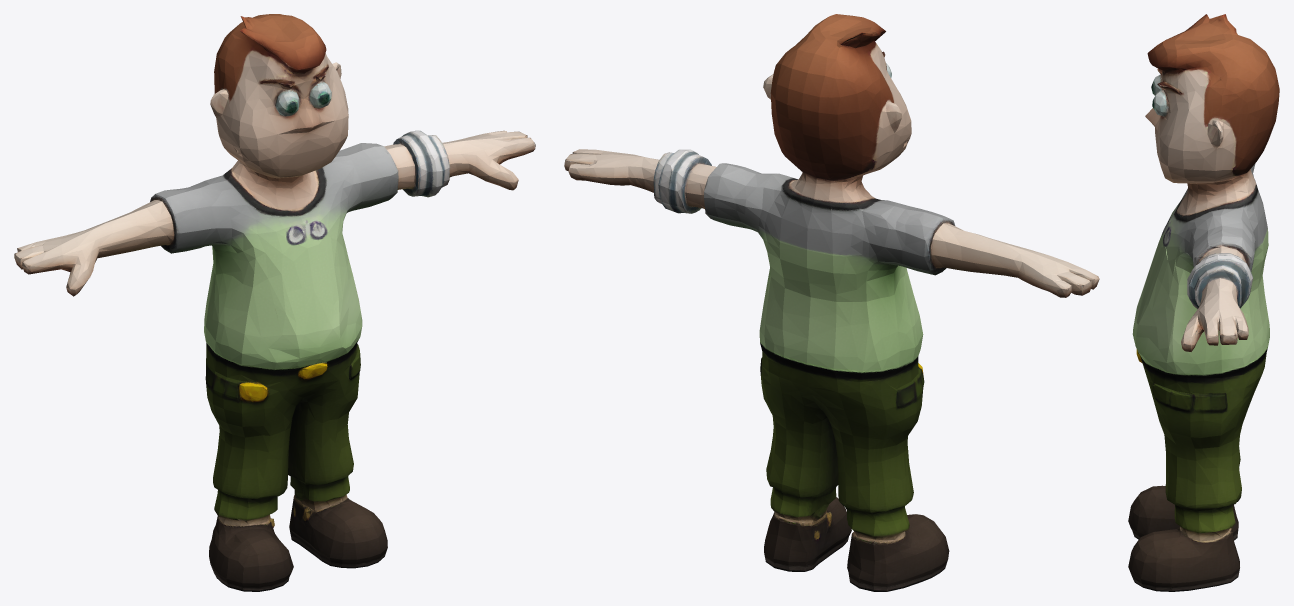
File: human_3.glb
3 views of the same model, side by side, from view 1: azimuth 30°, elevation 25°; view 2: azimuth 150°, elevation 25°; view 3: azimuth 270°, elevation 25° (orthographic). The views are drawn at different scales.
Parts seen in each view (by area): view 1: world; view 2: world; view 3: world.
Boxes of the visible parts, x1,y1,x2,y2 form: world: [14, 14, 535, 591]; world: [564, 14, 1099, 591]; world: [1128, 14, 1279, 591].
Size of the model in its own units: 0.8694 by 0.8752 by 0.2287.
Materials: 1 (1 with a texture image).
